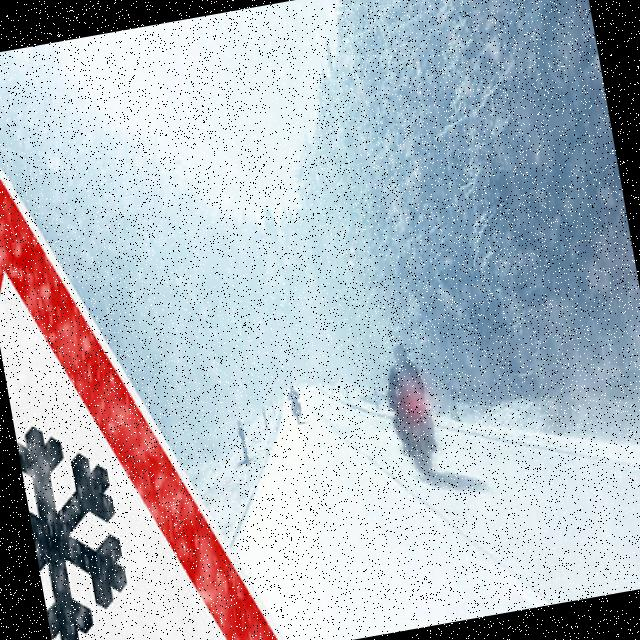snow_warning: (0, 93, 303, 640)
